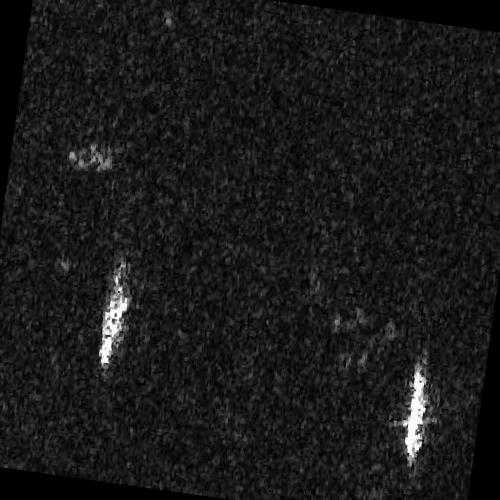ship: (99, 272, 130, 372), (403, 366, 428, 463)
